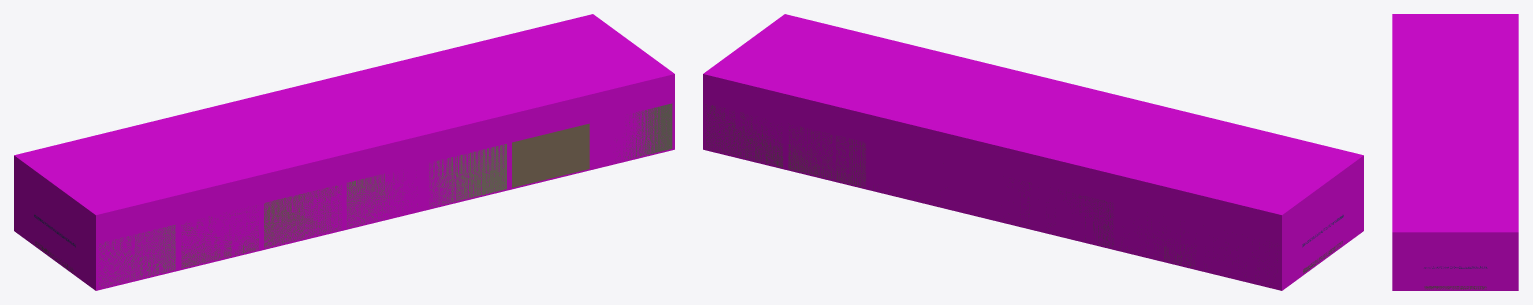
File: ENV_Channel_Straight_A.glb
The picture shows the model from 3 angles, left to right: view 1: azimuth 30°, elevation 25°; view 2: azimuth 150°, elevation 25°; view 3: azimuth 270°, elevation 25°; orthographic projection. The views are drawn at different scales.
Visible parts, largest first — view 1: COL_Wall_-1, COL_Bed, ENV_Channel_Straight_A_Mesh, COL_Wall_1; view 2: COL_Wall_1, COL_Bed, COL_Wall_-1, ENV_Channel_Straight_A_Mesh; view 3: COL_Bed, COL_Wall_1, COL_Wall_-1, ENV_Channel_Straight_A_Mesh, WATER_STATE_irrigated.
Boxes of the visible parts, x1,y1,x2,y2 form: COL_Wall_-1: (76,59,674,290); COL_Bed: (34,29,654,275); ENV_Channel_Straight_A_Mesh: (35,103,672,287); COL_Wall_1: (14,14,612,245); COL_Wall_1: (703,59,1301,290); COL_Bed: (723,29,1343,275); COL_Wall_-1: (765,14,1363,245); ENV_Channel_Straight_A_Mesh: (705,104,1342,283); COL_Bed: (1423,14,1487,290); COL_Wall_1: (1487,14,1518,290); COL_Wall_-1: (1392,14,1423,290); ENV_Channel_Straight_A_Mesh: (1424,286,1486,289); WATER_STATE_irrigated: (1424,266,1487,268).
Bounding box in the file's own units: 4 × 0.5357 × 0.98.
